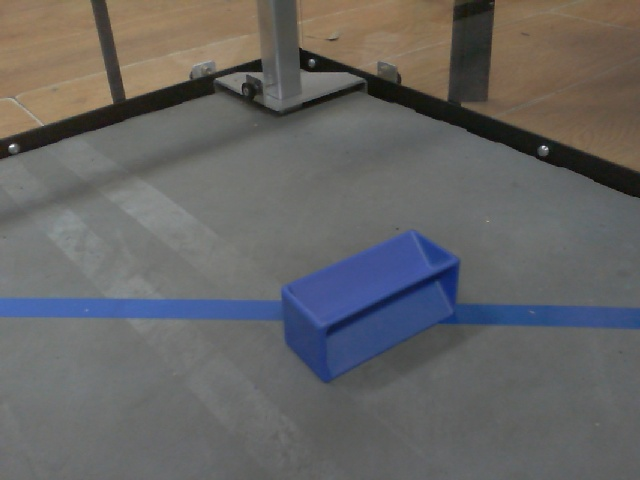BlueSample: (276, 226, 464, 388)
